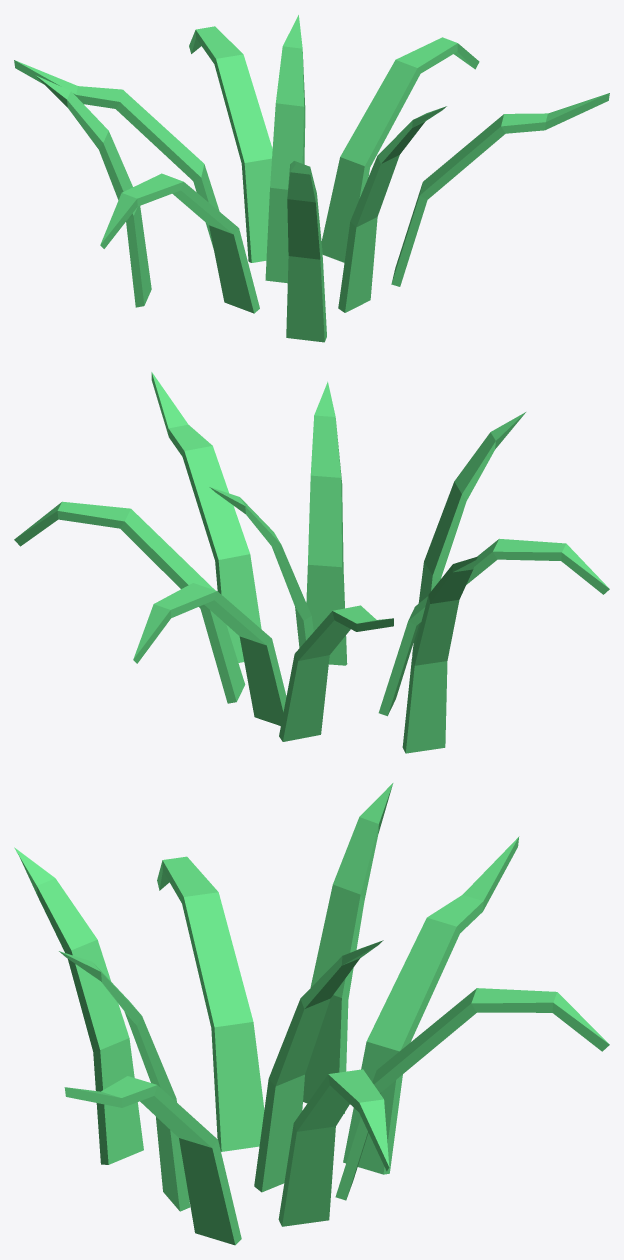
The model's file is grass_2.fbx.
3 renders of one model, top to bottom at view 1: azimuth 30°, elevation 25°; view 2: azimuth 150°, elevation 25°; view 3: azimuth 270°, elevation 25°, orthographic. The views are drawn at different scales.
Visible parts, largest first — view 1: grass; view 2: grass; view 3: grass.
Boxes of the visible parts, x1=… form: grass: x1=14, y1=15, x2=609, y2=342; grass: x1=14, y1=372, x2=609, y2=753; grass: x1=14, y1=783, x2=609, y2=1245.
Size of the model in its own units: 97.07 by 43.81 by 85.2.
